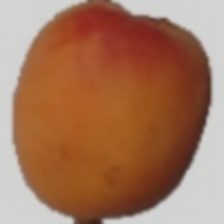apricot: (28, 22, 177, 158)
